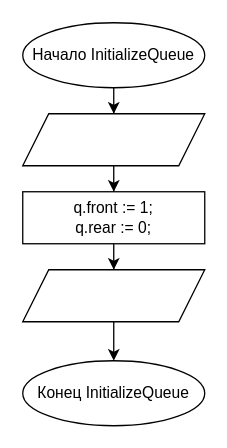
This 227x448 diagram has some shape labels left out. The shapes that lost their labels are listed below. From the top down, each one's centre as x and y in pixels, then its label:
the point at 113,139: инициализация q
the point at 113,295: возврат q
